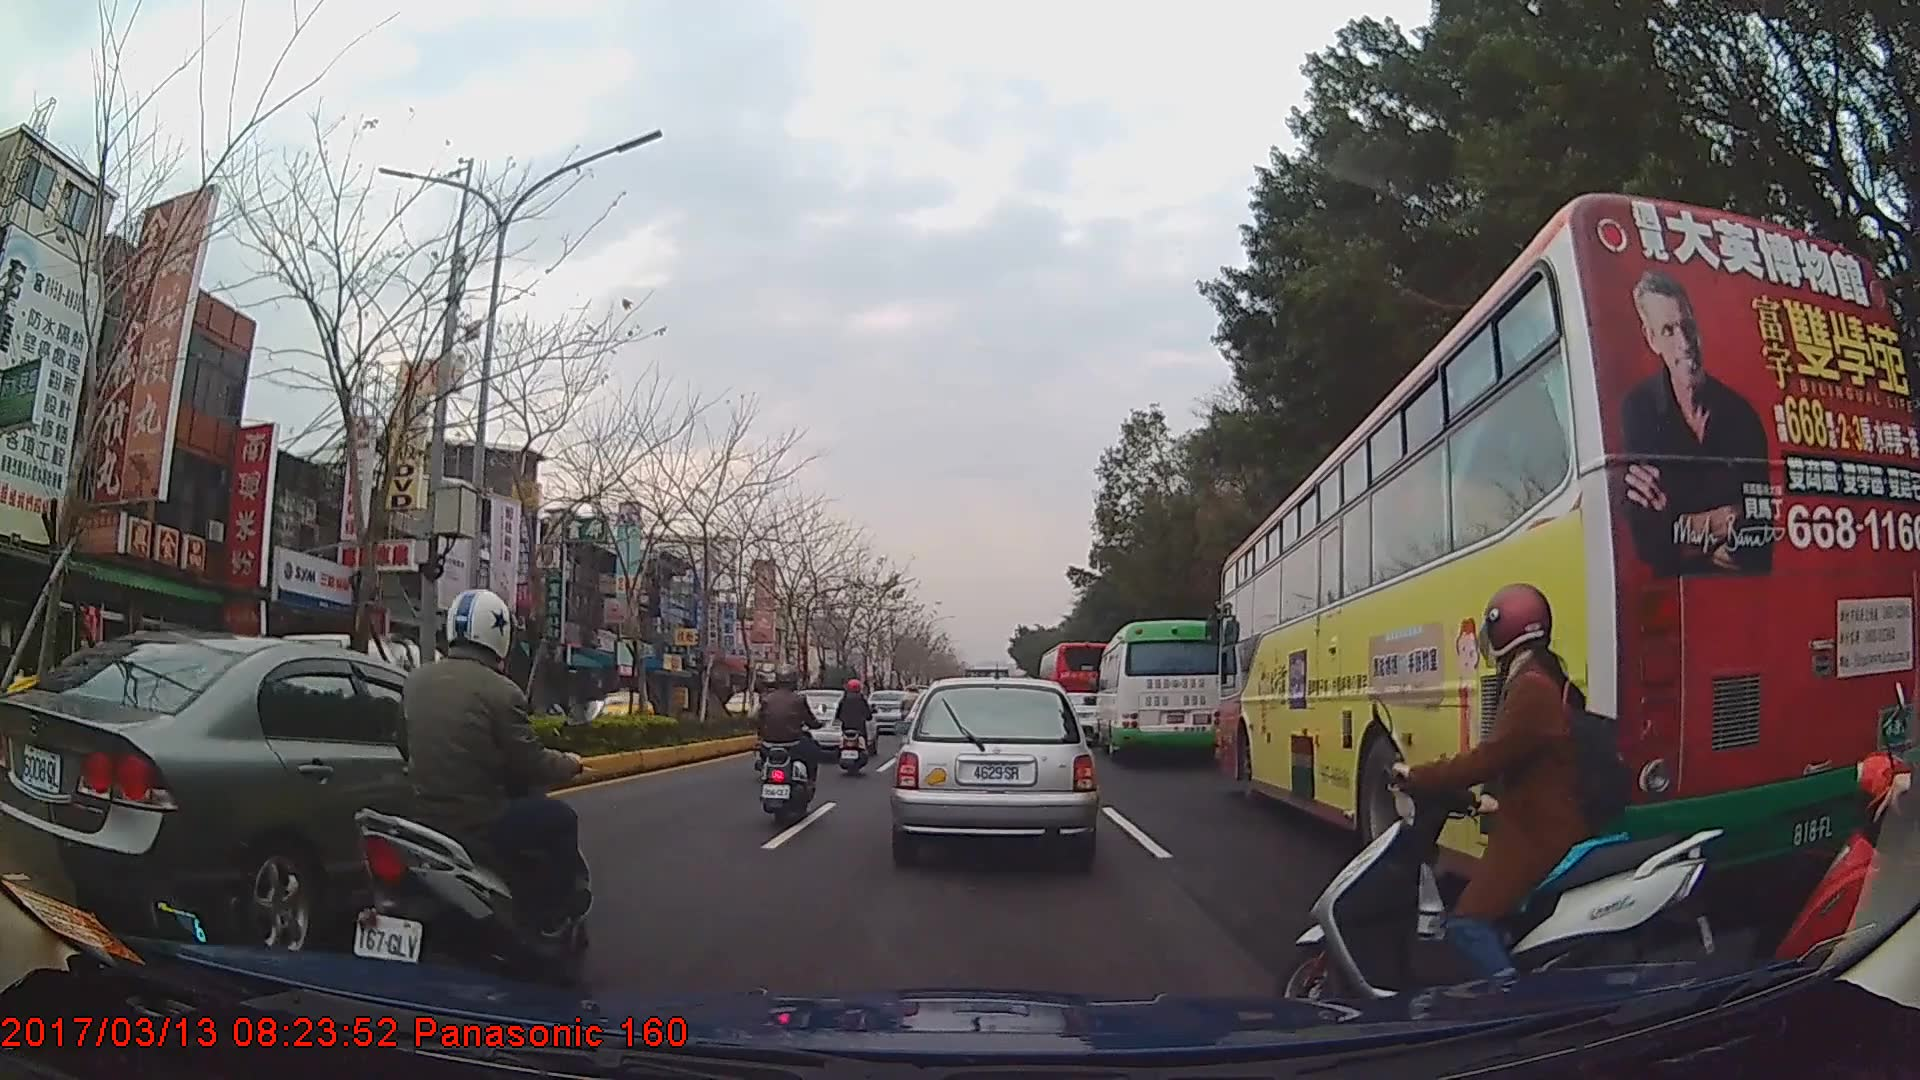rider: (1265, 581, 1721, 1038), (339, 587, 594, 1004), (748, 660, 822, 827), (836, 676, 876, 778)
vehicle: (1217, 190, 1920, 898), (8, 626, 549, 953), (893, 672, 1095, 864), (1094, 618, 1221, 762), (1034, 637, 1113, 733), (779, 686, 876, 765), (578, 686, 655, 735)
